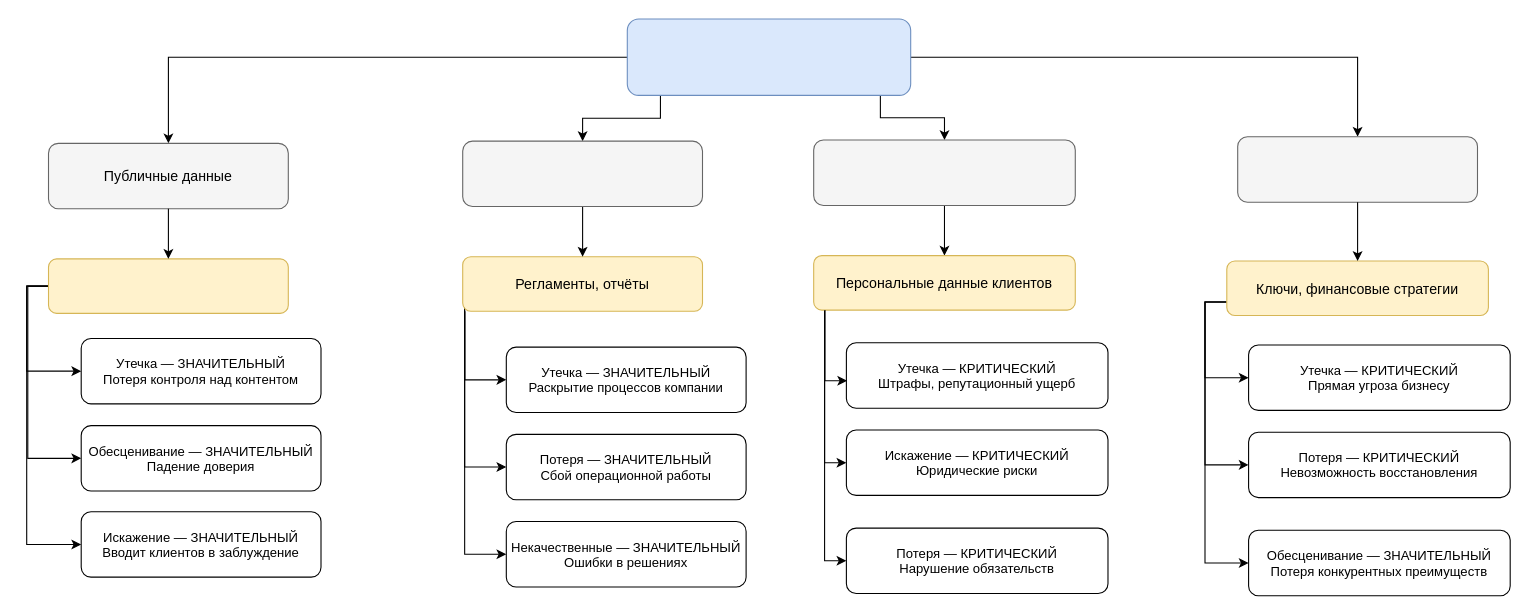
The diagram is 1529 pixels wide and 615 high, and some of its shapes have lost their labels. The box of each missing label's shape, as (x1, y1, x2, y2) in pixels:
Безопасность данных: (626, 18, 911, 95)
Внутренние данные: (462, 140, 703, 207)
Конфиденциальные данные: (813, 139, 1075, 205)
Сайт, маркетинговые материалы: (47, 258, 288, 313)
Секретные данные: (1237, 136, 1477, 202)
